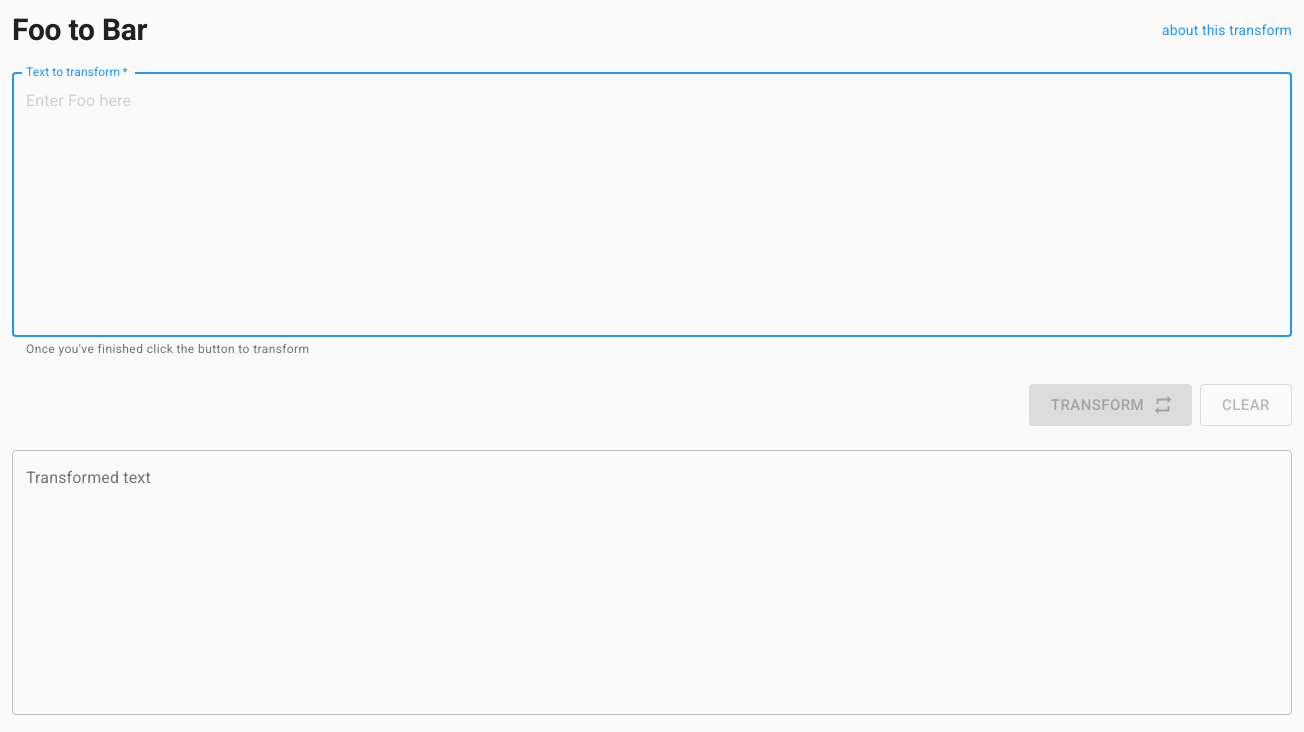
Transform › after the user has entered text in the input box › when the transform will fail › when the transform button is clicked › before the transform completes › displays a loading indicator
In the text box labelled "Text to transform *": [652, 204] box [26,90,1278,318], type "stuff"
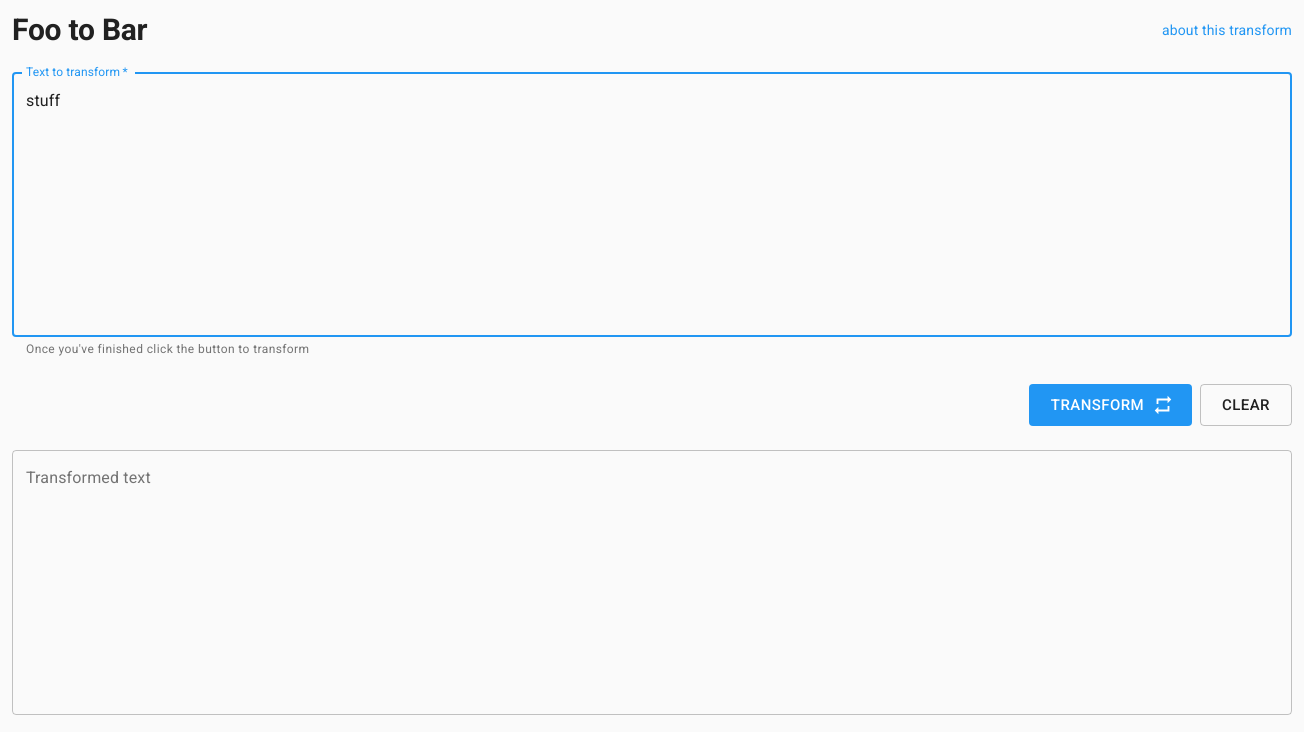
Click the button "Transform": [1110, 405] box [1029,384,1192,426]
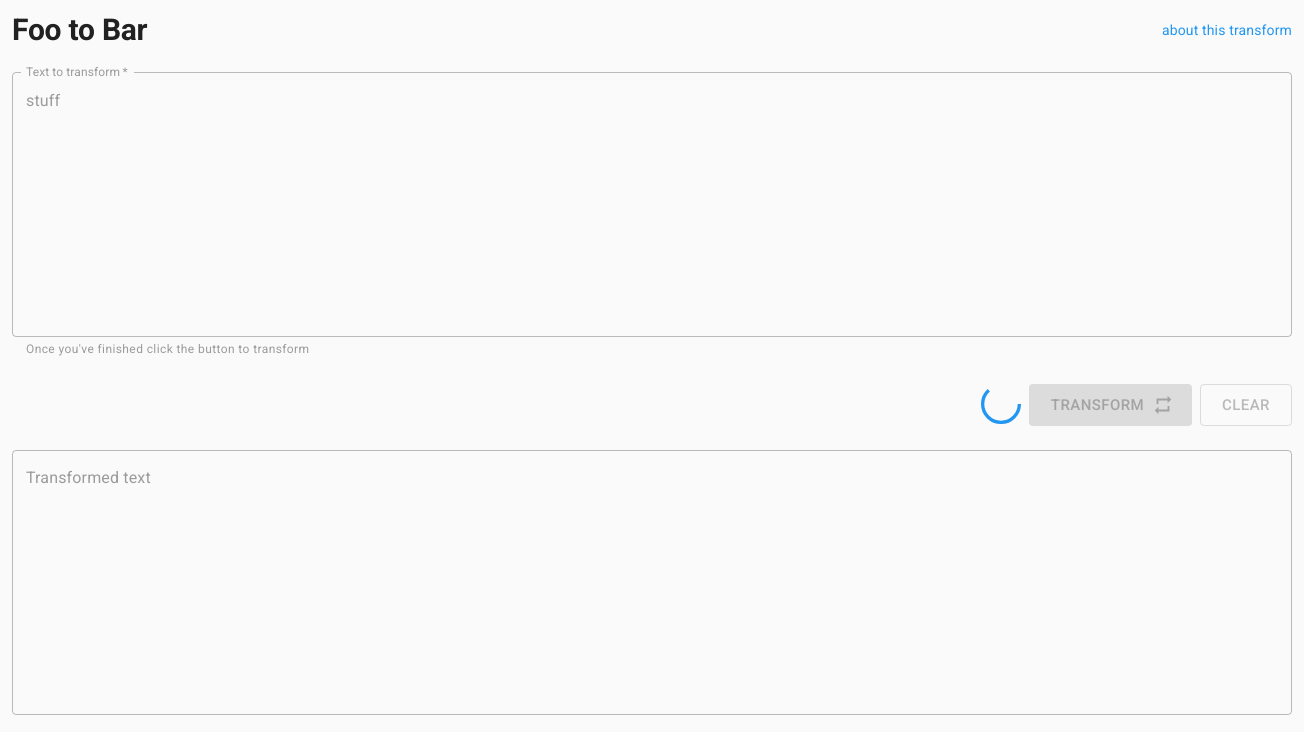
Check: the progress indicator is shown, box [981,384,1021,424]
